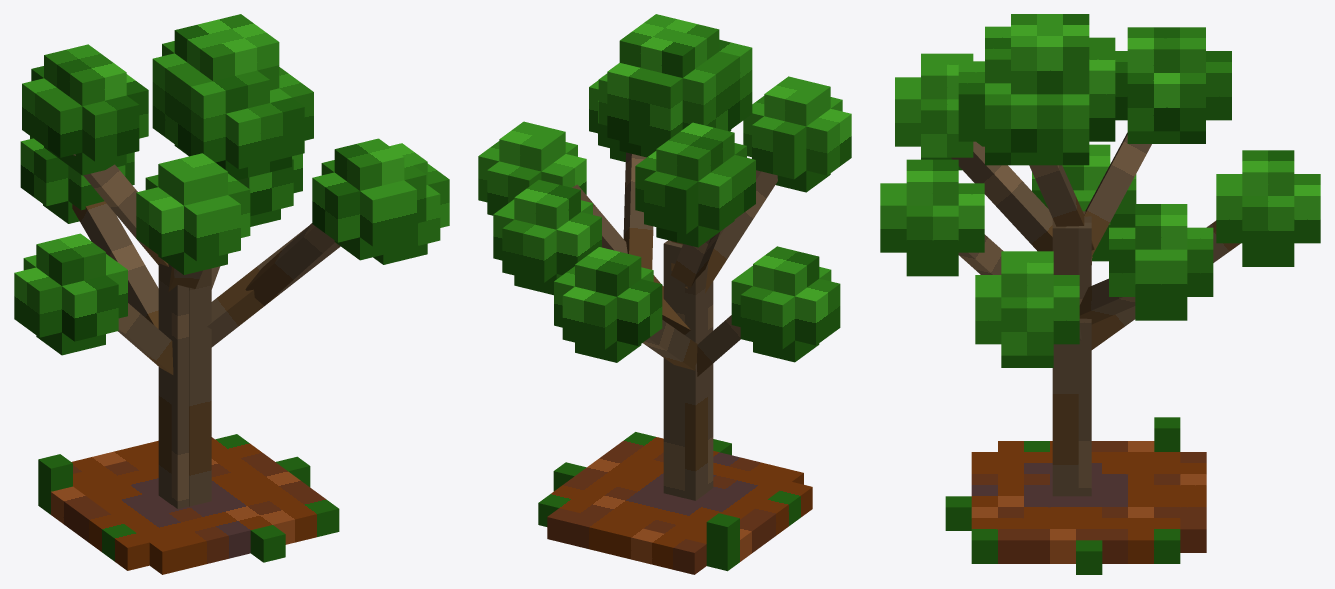
Rendered from oaktree_full_lv1.gltf.
3 views of the same model, side by side, from view 1: azimuth 30°, elevation 25°; view 2: azimuth 150°, elevation 25°; view 3: azimuth 270°, elevation 25° (orthographic). The views are drawn at different scales.
Parts seen in each view (by area): view 1: a1-Local, a13-Local, a14-Local, a8-Local, a16-Local, a2-Local, PL2-Local, a5-Local, PL1-Local, t1-Local, a12-Local, t3-Local (+5 smaller); view 2: a1-Local, a13-Local, a14-Local, a2-Local, a5-Local, a16-Local, a9-Local, a12-Local, PL3-Local, PL4-Local, t3-Local, t7-Local (+6 smaller); view 3: a1-Local, a13-Local, a14-Local, a8-Local, a5-Local, a12-Local, a9-Local, a16-Local, PL2-Local, t7-Local, PL4-Local, a2-Local (+5 smaller).
Part boxes in pixels (x1=…): a1-Local: x1=38, y1=434, x2=339, y2=574; a13-Local: x1=152, y1=14, x2=313, y2=180; a14-Local: x1=22, y1=44, x2=148, y2=175; a8-Local: x1=312, y1=138, x2=426, y2=260; a16-Local: x1=136, y1=153, x2=250, y2=274; a2-Local: x1=14, y1=233, x2=127, y2=355; PL2-Local: x1=189, y1=268, x2=211, y2=506; a5-Local: x1=20, y1=136, x2=134, y2=223; PL1-Local: x1=171, y1=266, x2=188, y2=508; t1-Local: x1=72, y1=201, x2=158, y2=328; a12-Local: x1=373, y1=143, x2=449, y2=264; t3-Local: x1=245, y1=223, x2=334, y2=305; a1-Local: x1=538, y1=432, x2=812, y2=574; a13-Local: x1=598, y1=14, x2=752, y2=157; a14-Local: x1=635, y1=122, x2=755, y2=247; a2-Local: x1=731, y1=246, x2=840, y2=362; a5-Local: x1=554, y1=247, x2=662, y2=362; a16-Local: x1=743, y1=76, x2=851, y2=192; a9-Local: x1=493, y1=180, x2=601, y2=295; a12-Local: x1=478, y1=121, x2=586, y2=215; PL3-Local: x1=685, y1=263, x2=707, y2=500; PL4-Local: x1=663, y1=240, x2=684, y2=498; t3-Local: x1=623, y1=152, x2=653, y2=269; t7-Local: x1=685, y1=170, x2=777, y2=293; a1-Local: x1=945, y1=417, x2=1206, y2=574; a13-Local: x1=958, y1=14, x2=1115, y2=165; a14-Local: x1=1115, y1=27, x2=1231, y2=143; a8-Local: x1=880, y1=159, x2=984, y2=276; a5-Local: x1=1216, y1=150, x2=1320, y2=266; a12-Local: x1=975, y1=251, x2=1079, y2=367; a9-Local: x1=1109, y1=204, x2=1213, y2=320; a16-Local: x1=895, y1=53, x2=984, y2=170; PL2-Local: x1=1052, y1=219, x2=1078, y2=496; t7-Local: x1=951, y1=141, x2=1092, y2=258; PL4-Local: x1=1065, y1=222, x2=1091, y2=496; a2-Local: x1=1032, y1=144, x2=1136, y2=261.
Size of the model in its own units: 17.3 by 22.66 by 16.87.
21 materials, 21 textured.
